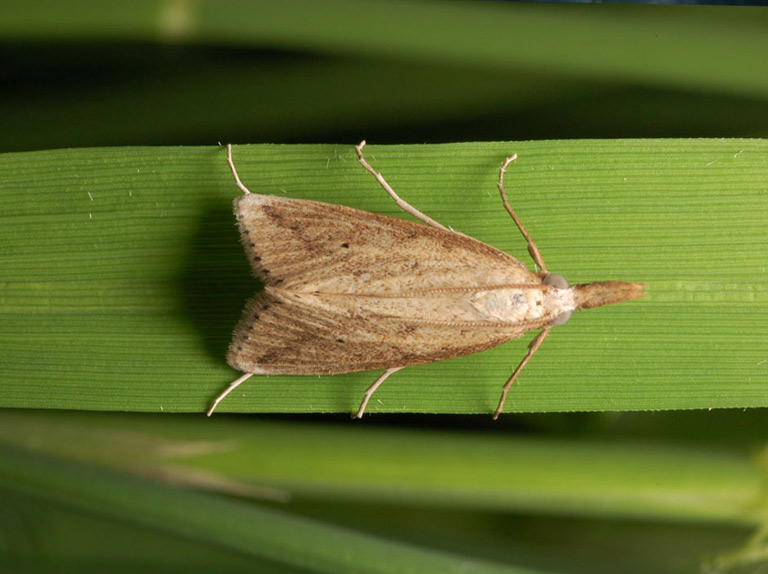Paddy_stemborer: (228, 189, 585, 376)
